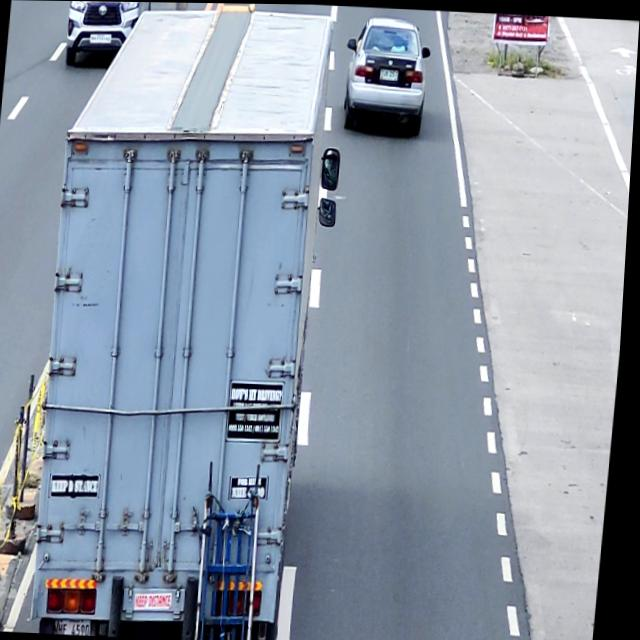Car: (340, 14, 434, 134), (63, 1, 139, 67)
License-Plate: (90, 32, 114, 45), (379, 66, 399, 79)
Truck: (25, 1, 355, 640)
